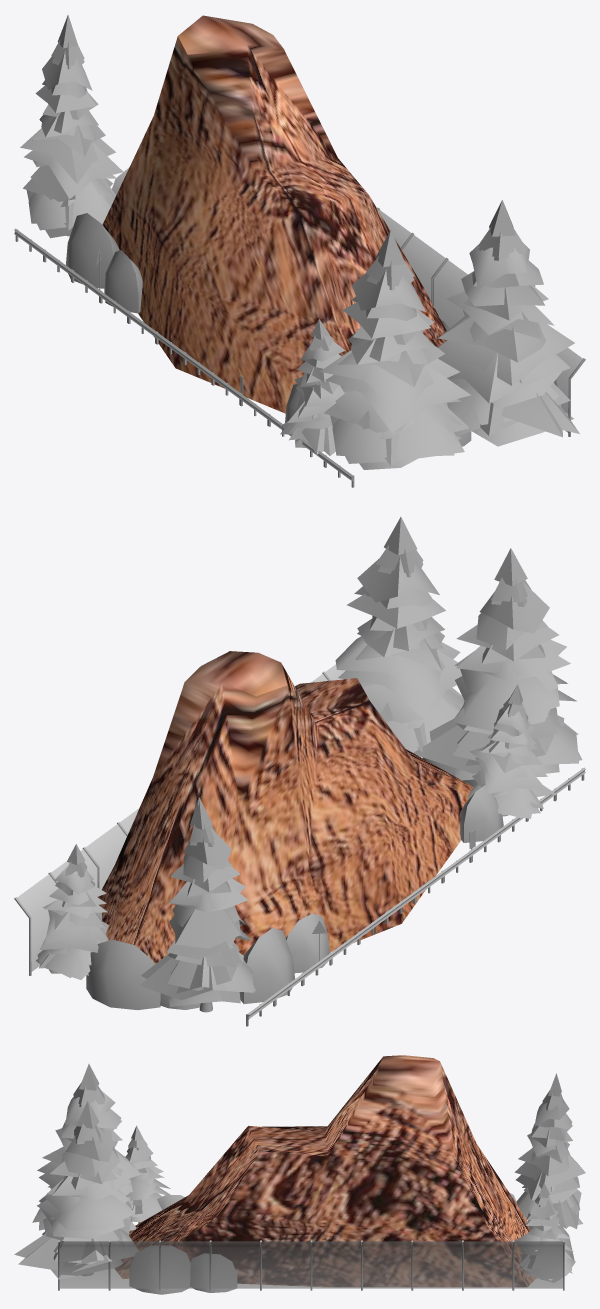
File: Zone_14.fbx
3 renders of one model, top to bottom at view 1: azimuth 30°, elevation 25°; view 2: azimuth 150°, elevation 25°; view 3: azimuth 270°, elevation 25°, orthographic. The views are drawn at different scales.
Parts seen in each view (by area): view 1: polymsh89; view 2: polymsh89; view 3: polymsh89.
Part boxes in pixels (bbox=[...]): polymsh89: bbox=[14, 14, 585, 487]; polymsh89: bbox=[14, 517, 585, 1026]; polymsh89: bbox=[14, 1055, 585, 1294].
Size of the model in its own units: 12.96 by 13.86 by 35.6.
